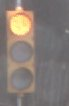Red: (3, 7, 39, 100)
